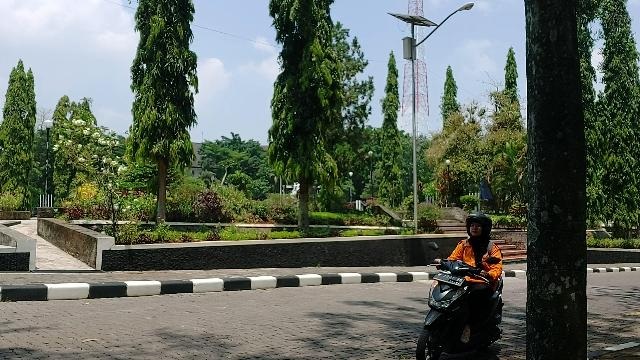helm: (467, 213, 493, 239)
motor: (418, 262, 504, 360)
